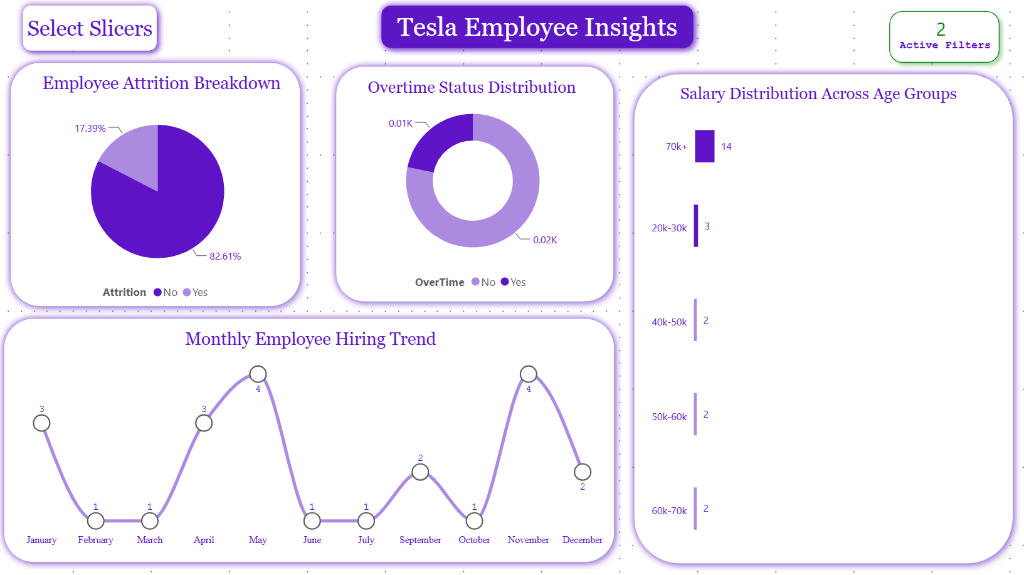

The page's visual inventory and layout, read from the dashboard file:
{"tool":"powerbi","page":{"name":"Main","canvas":[1280,720],"ordinal":0},"visuals":[{"type":"group","id":"g1","title":"Pie","box":[10.4,64.7,374.7,323.4],"z":0},{"type":"shape","box":[10.4,70.9,373.6,317.2],"z":0,"group":"g1"},{"type":"shape","box":[411.1,75.2,359,306.8],"z":0,"group":"g3"},{"type":"shape","box":[777.6,84.8,483.2,619.6],"z":0,"group":"g2"},{"type":"shape","box":[2.2,384.7,768,317.2],"z":500,"group":"g4"},{"type":"shape","box":[1091.3,6.4,153.6,81.6],"z":1000,"group":"g6"},{"type":"group","id":"g2","title":"Bar chart","box":[777.6,84.8,483.2,620.8],"z":1000},{"type":"donutChart","fields":{"Category":["Employee.OverTime"],"Y":["CountNonNull(Employee.EmployeeID)"]},"box":[404.8,109.4,364.8,252.8],"z":1000,"group":"g3"},{"type":"pieChart","fields":{"Category":["Employee.Attrition"],"Y":["CountNonNull(Employee.EmployeeID)"]},"box":[13.7,123.7,371.5,256.7],"z":1000,"group":"g1"},{"type":"clusteredBarChart","fields":{"Category":["Employee.Salary Range"],"Y":["CountNonNull(Employee.EmployeeID)"]},"box":[798.1,194.2,443.6,511.4],"z":1000,"group":"g2"},{"type":"shape","box":[181.3,389.6,413.2,58.4],"z":1000,"group":"g4"},{"type":"shape","box":[1107.3,40,123.2,35.2],"z":1500,"group":"g6"},{"type":"lineChart","fields":{"Category":["Employee.HireDate.Variation.Date Hierarchy.Month"],"Y":["CountNonNull(Employee.EmployeeID)"]},"box":[25,436.2,730.4,244.2],"z":1500,"group":"g4"},{"type":"actionButton","box":[1078.5,0,171.2,73.6],"z":2000,"group":"g6"},{"type":"shape","box":[34.5,64.7,340.2,79.3],"z":2000,"group":"g1"},{"type":"group","id":"g3","title":"donut","box":[404.8,75.2,364.8,305.6],"z":2000},{"type":"shape","box":[433.9,83.6,305.5,52.4],"z":2000,"group":"g3"},{"type":"clusteredBarChart","fields":{"Category":["Employee.Salary Range"],"Y":["CountNonNull(Employee.EmployeeID)"]},"box":[817,85.3,424.7,187.8],"z":2000,"group":"g2"},{"type":"shape","box":[818.1,87.3,390.3,60.5],"z":3000,"group":"g2"},{"type":"group","id":"g4","title":"linechart","box":[2.2,384.7,768,317.2],"z":3000},{"type":"shape","box":[25.6,0,182.4,73.6],"z":4000},{"type":"group","id":"g5","title":"Group 1","box":[0,0,1279.3,717.9],"z":6000},{"type":"group","id":"g6","title":"Group 3","box":[1078.5,0,171.2,88],"z":7000},{"type":"shape","box":[465.6,0,401.6,70.4],"z":11000}]}

Visuals, with their boxes in screenshot pixels (x1, y1, x2, y2), scaled from the page's 1280x720 canvas onto the 1024x575 screenshot:
"Pie" group: 8,52,308,310
shape: 8,57,307,310
shape: 329,60,616,305
shape: 622,68,1009,563
shape: 2,307,616,561
shape: 873,5,996,70
"Bar chart" group: 622,68,1009,564
donutChart - Employee.OverTime x CountNonNull(Employee.EmployeeID): 324,87,616,289
pieChart - Employee.Attrition x CountNonNull(Employee.EmployeeID): 11,99,308,304
clusteredBarChart - Employee.Salary Range x CountNonNull(Employee.EmployeeID): 638,155,993,564
shape: 145,311,476,358
shape: 886,32,984,60
lineChart - Employee.HireDate.Variation.Date Hierarchy.Month x CountNonNull(Employee.EmployeeID): 20,348,604,543
actionButton: 863,0,1000,59
shape: 28,52,300,115
"donut" group: 324,60,616,304
shape: 347,67,592,109
clusteredBarChart - Employee.Salary Range x CountNonNull(Employee.EmployeeID): 654,68,993,218
shape: 654,70,967,118
"linechart" group: 2,307,616,561
shape: 20,0,166,59
"Group 1" group: 0,0,1023,573
"Group 3" group: 863,0,1000,70
shape: 372,0,694,56
